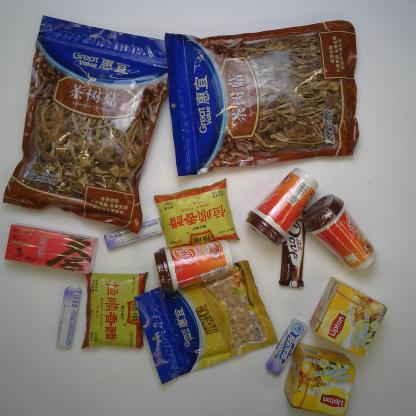Candy: (265, 318, 308, 376), (103, 218, 164, 249), (55, 286, 82, 348)
Chocolate: (278, 210, 307, 288)
Dried Food: (2, 14, 172, 235), (163, 19, 361, 177)
Dried Fruit: (132, 260, 278, 386)
Instant Drink: (308, 277, 389, 357), (245, 166, 320, 247), (302, 194, 378, 273), (283, 342, 356, 416), (3, 222, 99, 275), (153, 239, 235, 295)
Seasoner: (152, 176, 240, 249), (80, 269, 149, 350)
